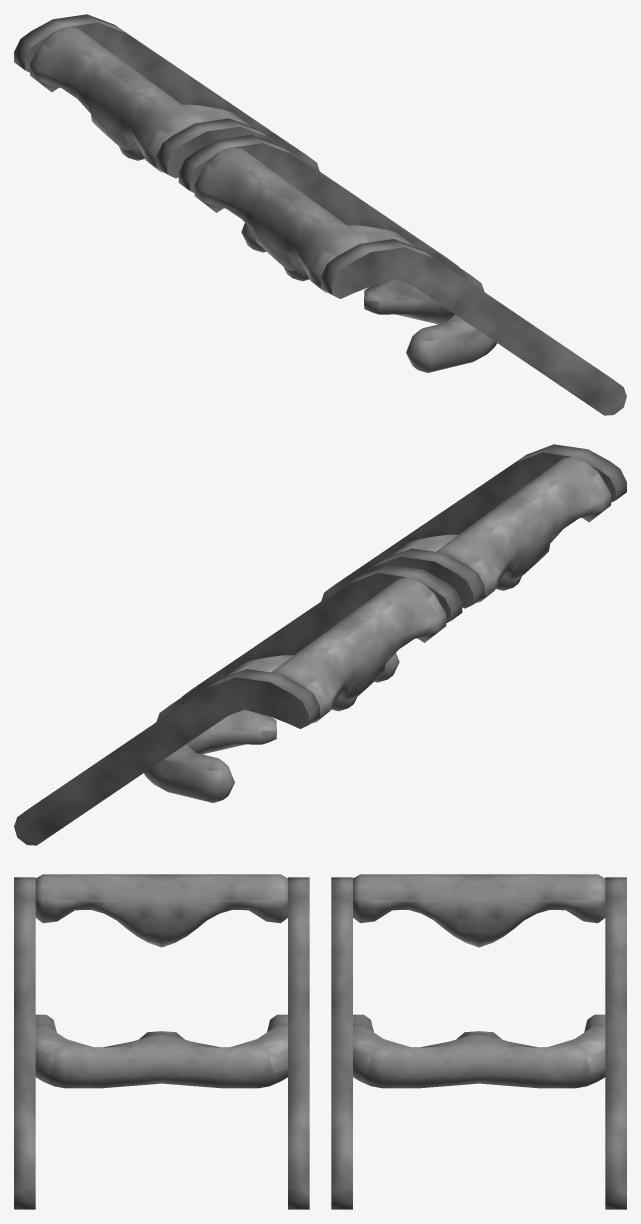
The model's file is restraint.obj.
3 views of the same model, one above another, from view 1: azimuth 30°, elevation 25°; view 2: azimuth 150°, elevation 25°; view 3: azimuth 270°, elevation 25° (orthographic). The views are drawn at different scales.
Size of the model in its own units: 0.5777 by 0.4231 by 1.08.
